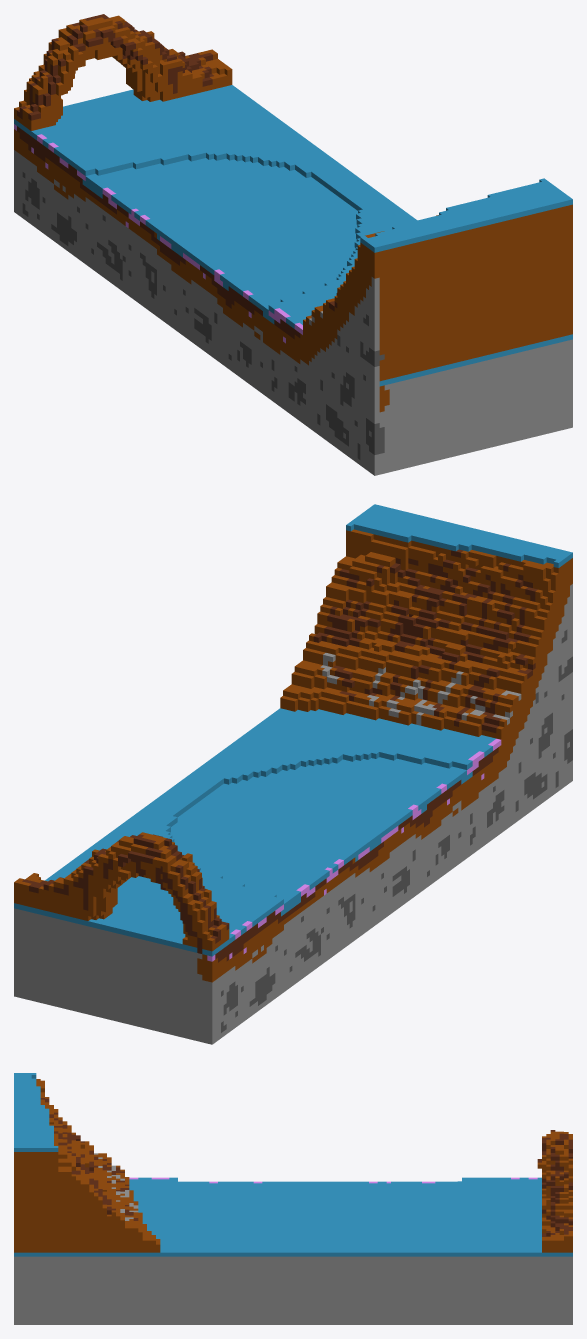
The model's file is level 1 - Part 6.obj.
3 renders of one model, top to bottom at view 1: azimuth 30°, elevation 25°; view 2: azimuth 150°, elevation 25°; view 3: azimuth 270°, elevation 25°, orthographic. The views are drawn at different scales.
Bounding box in the file's own units: 40 × 44 × 126.
1 material, 1 textured.
